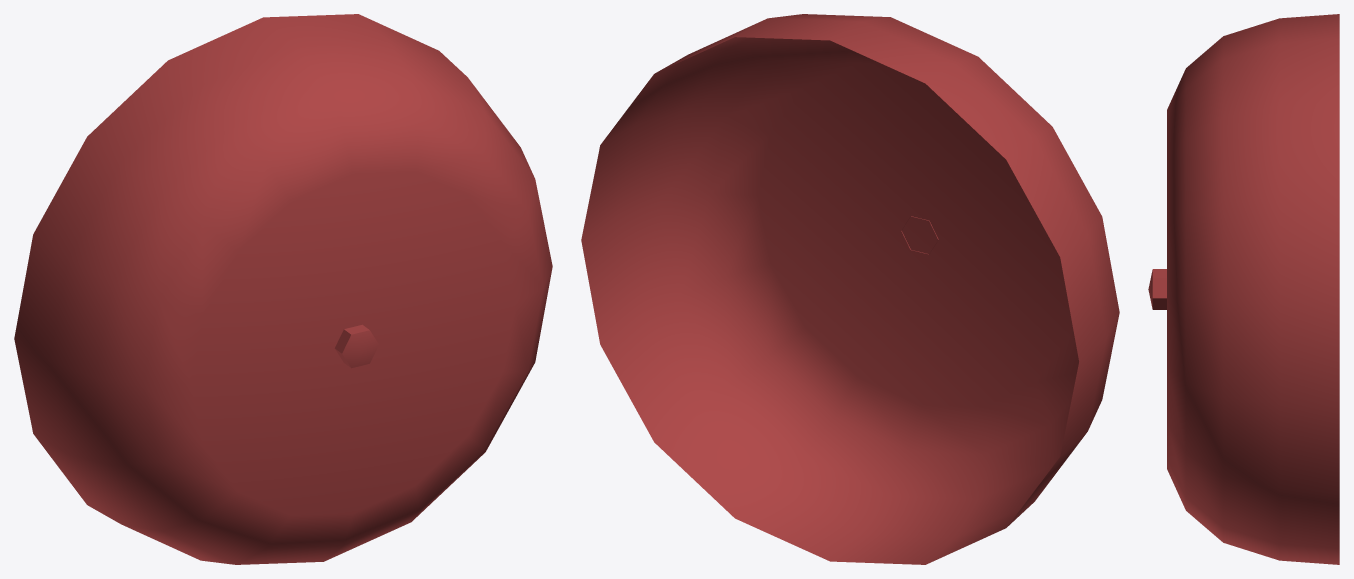
The model's file is Campana.fbx.
3 renders of one model, left to right at view 1: azimuth 30°, elevation 25°; view 2: azimuth 150°, elevation 25°; view 3: azimuth 270°, elevation 25°, orthographic. The views are drawn at different scales.
Parts seen in each view (by area): view 1: Campana1; view 2: Campana1; view 3: Campana1.
Boxes of the visible parts, x1,y1,x2,y2 form: Campana1: [14, 14, 552, 564]; Campana1: [581, 14, 1119, 564]; Campana1: [1148, 14, 1339, 564].
Bounding box in the file's own units: 0.3375 × 0.3375 × 0.117.
